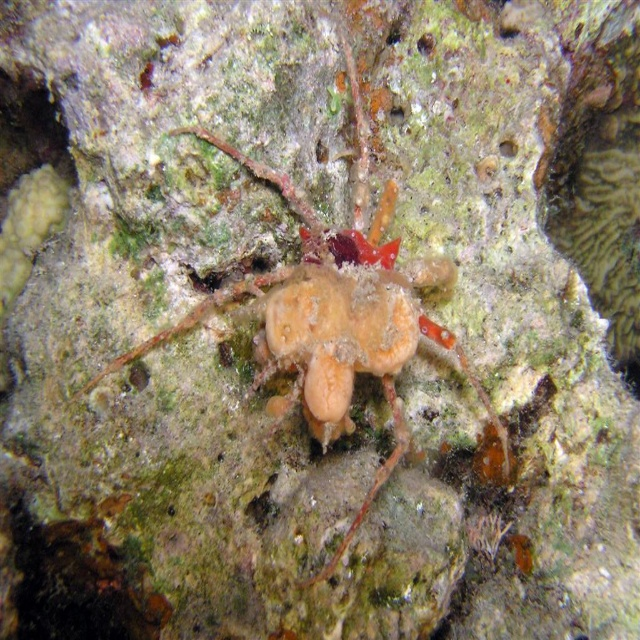Crab: (74, 41, 515, 591)
